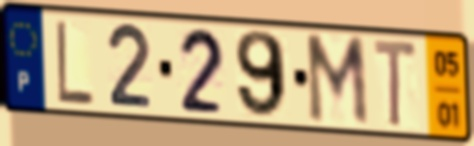2: (103, 19, 157, 116), (176, 23, 229, 120)
9: (234, 28, 292, 124)
L: (53, 16, 97, 109)
M: (302, 32, 372, 131)
T: (371, 35, 420, 132)
